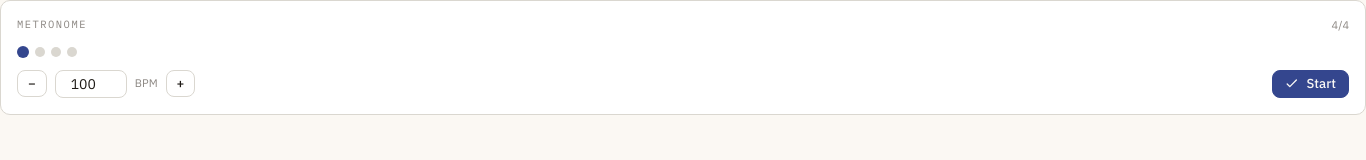
Metronome › clamps BPM into the [30, 240] range
The width and height of the screenshot is (1366, 160).
Replace the text in the number field with test id "metronome-bpm" with "500" at [91, 84], box [55,70,127,98]
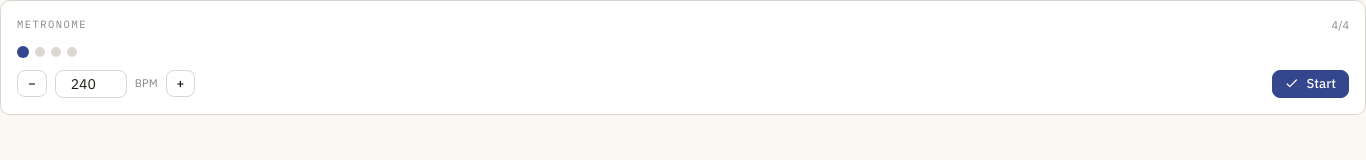
Now the number field with test id "metronome-bpm" holds "240"
Replace the text in the number field with test id "metronome-bpm" with "5" at [91, 84], box [55,70,127,98]
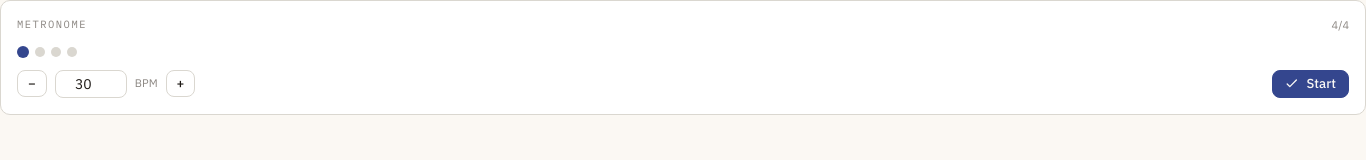
Now the number field with test id "metronome-bpm" holds "30", box [55,70,127,98]
